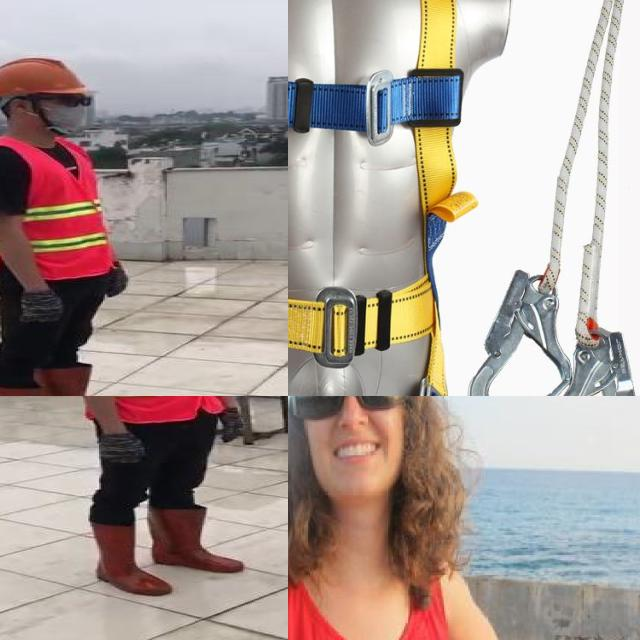Harness: (288, 0, 469, 396)
boots: (76, 516, 175, 598), (149, 505, 257, 573), (39, 359, 135, 396)
face_mask: (43, 92, 97, 130)
face_nomask: (303, 396, 400, 473)
glasses: (288, 396, 394, 420), (43, 90, 97, 110)
hand_glove: (92, 430, 149, 464), (20, 290, 66, 326), (213, 403, 248, 445)
head_helmet: (0, 55, 90, 98)
person: (288, 396, 501, 640), (0, 52, 134, 396), (56, 396, 251, 598)
vest: (0, 133, 111, 279)
